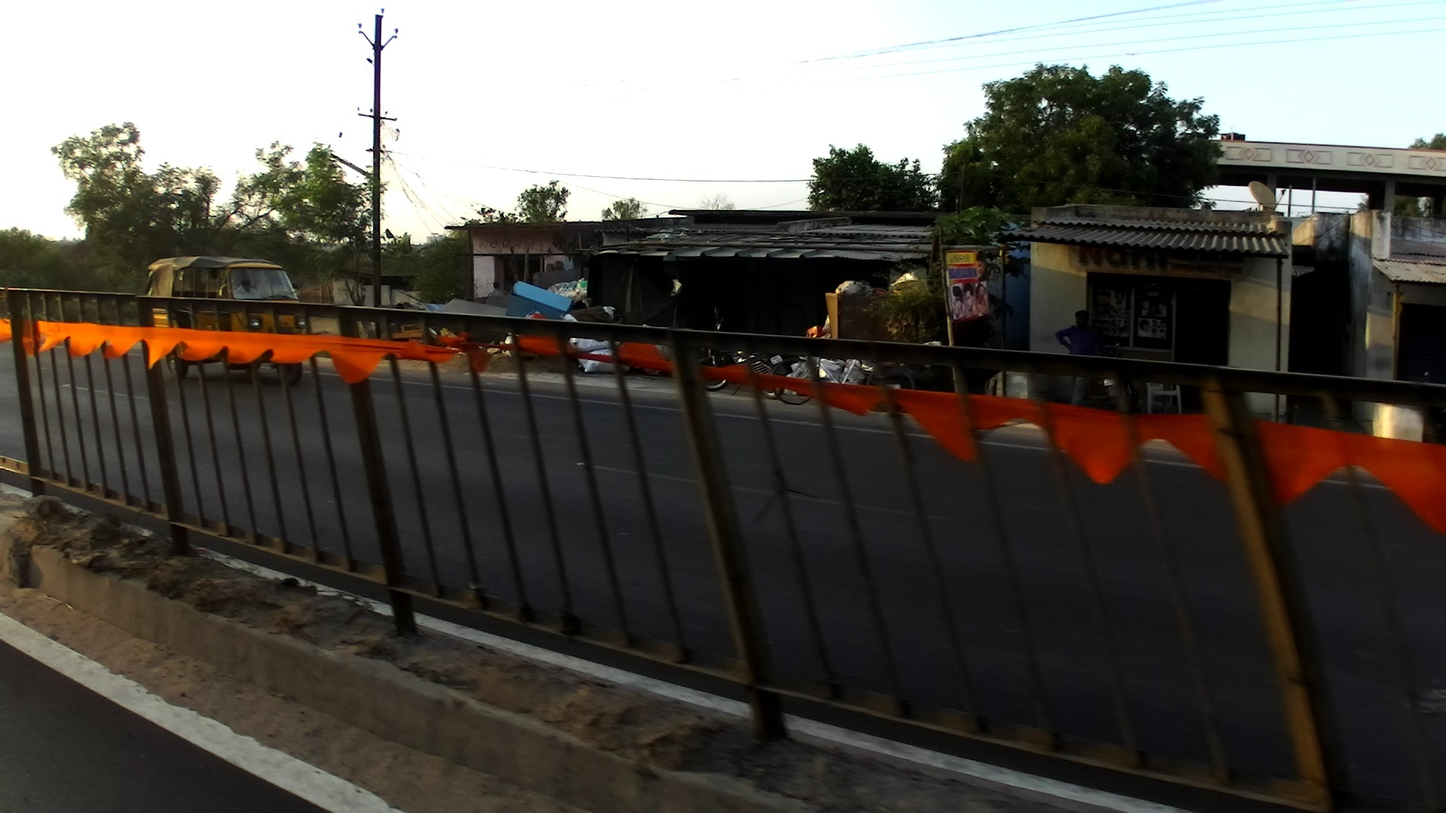autorickshaw: (141, 255, 302, 332)
motorcycle: (1094, 325, 1132, 366), (708, 306, 731, 335)
rider: (1057, 310, 1103, 363)
